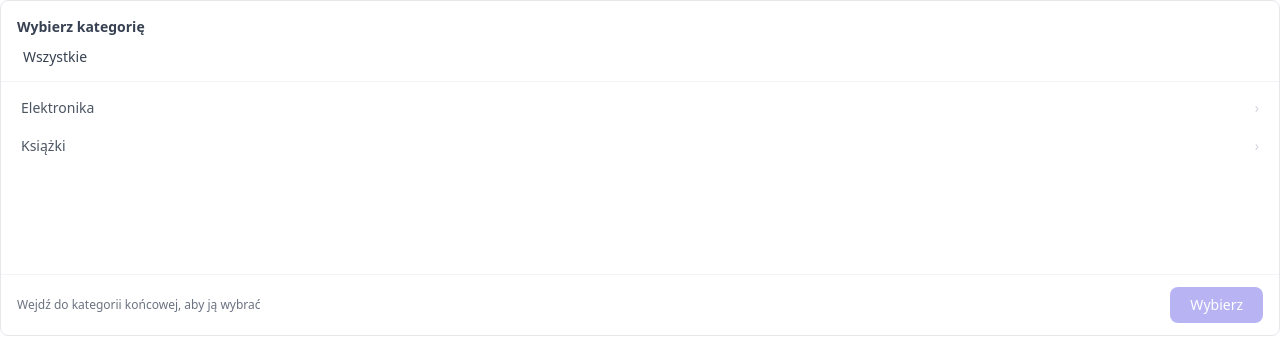
CategoryPicker — drilling and breadcrumb › drills into a branch and shows its children + breadcrumb
The image size is (1280, 353).
What coordinates should you click on to do the following:
click the text "Elektronika"
I would click on:
 (58, 108)
Its box is [21, 98, 94, 118].
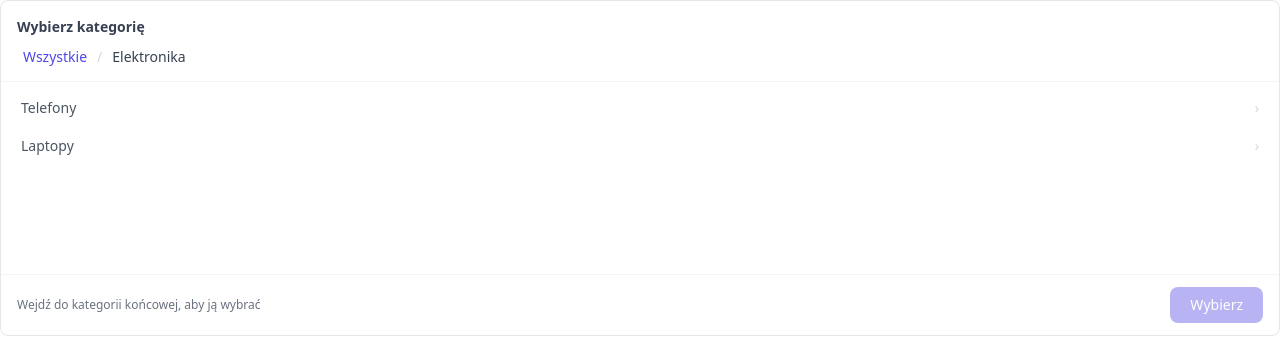
Expected: the button "Wszystkie" is shown, [17, 45, 93, 69]
Now the text "Telefony" is shown, box [21, 98, 76, 118]
Now the text "Laptopy" is shown, box [21, 136, 74, 156]
